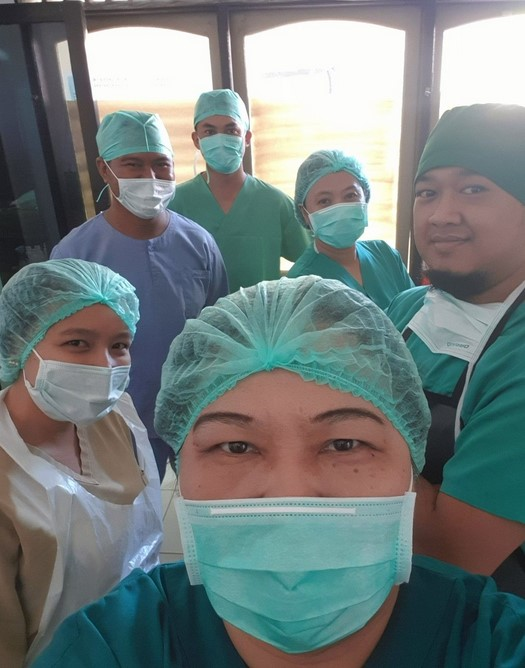face_with_mask: (157, 273, 437, 655), (405, 96, 521, 375), (2, 256, 141, 430), (96, 113, 181, 221), (296, 153, 370, 250), (190, 88, 258, 179)
